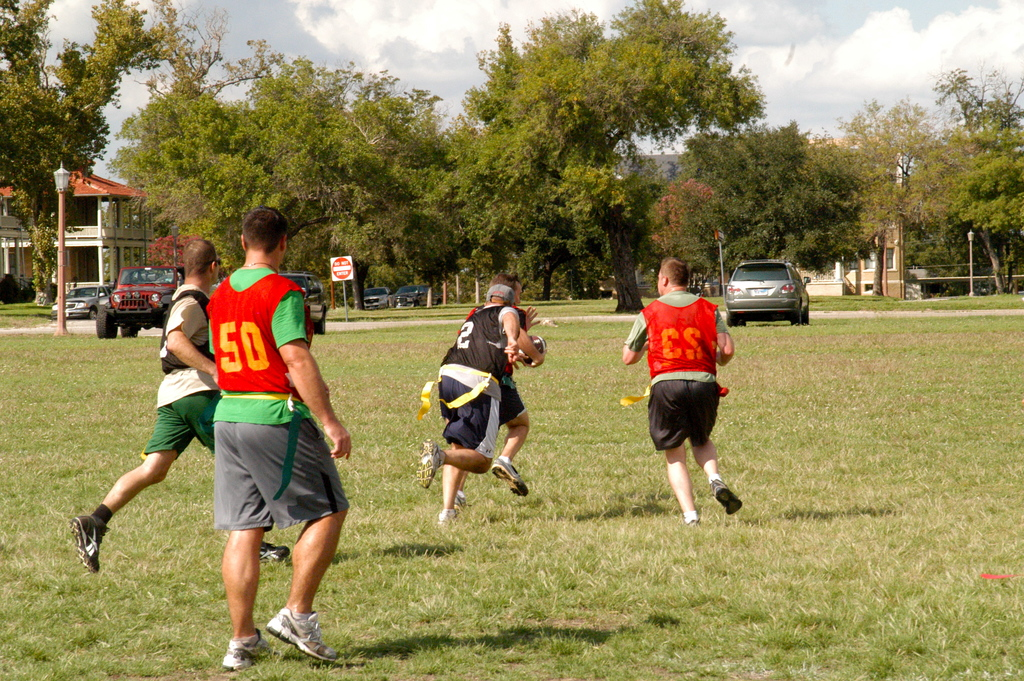Ball: (518, 333, 549, 363)
